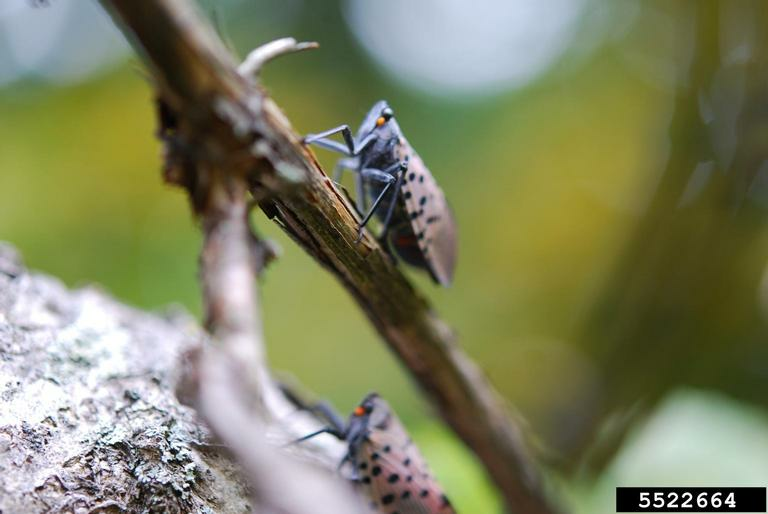adult: (289, 98, 488, 291), (260, 376, 462, 513)
